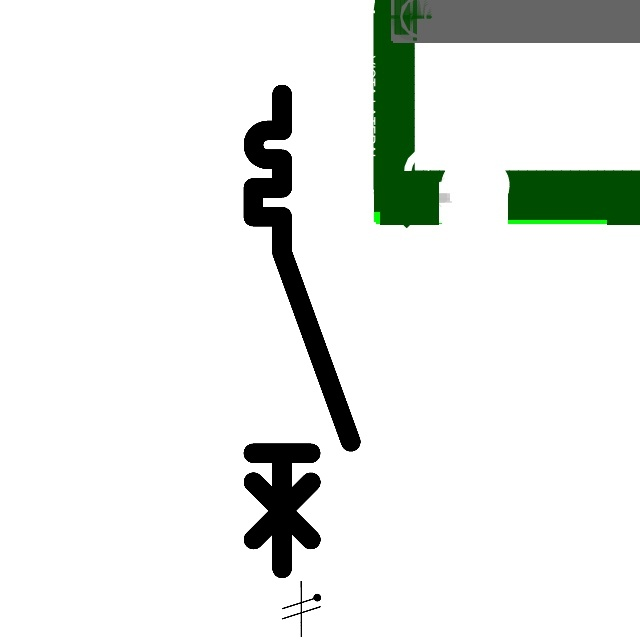interruptor_termomagnetico: (241, 82, 363, 581)
